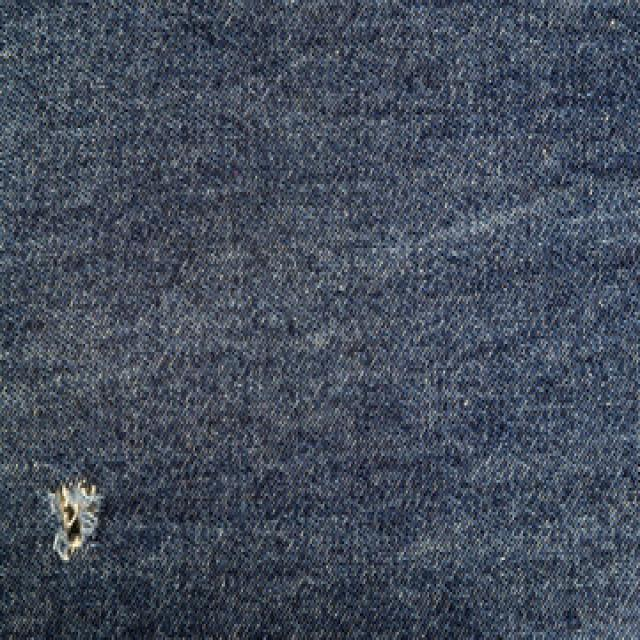Hole: (48, 482, 101, 562)
